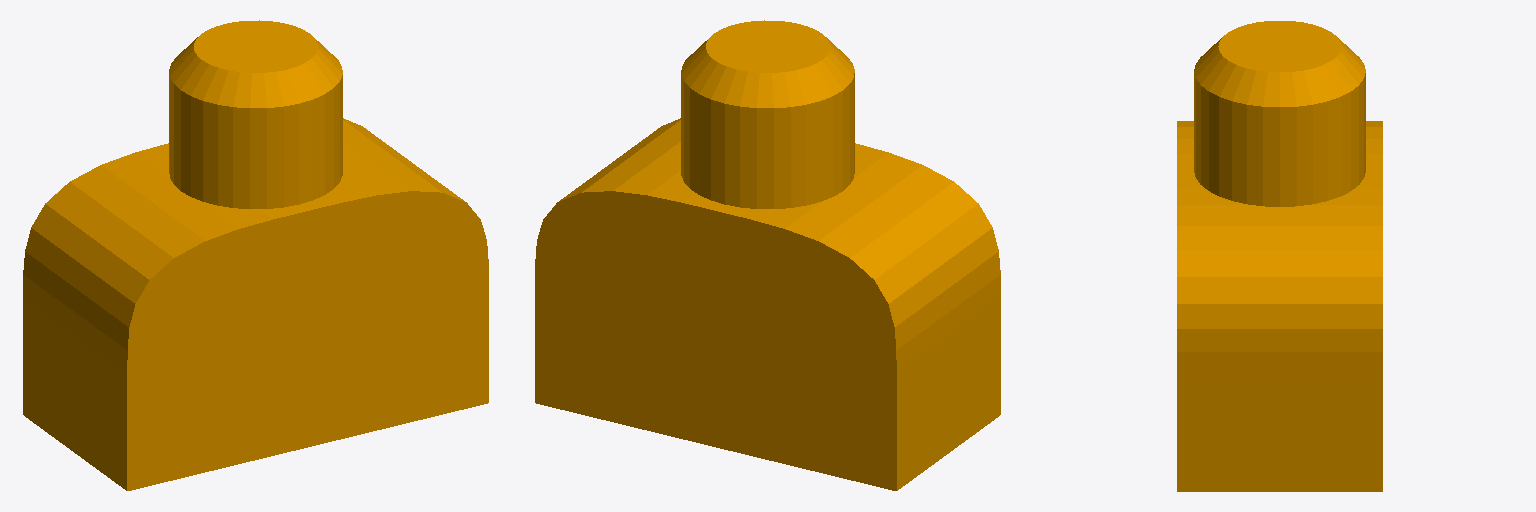
The robot description file, URDF, robot "1x3_curve_soft.urdf":
<?xml version="1.0" ?>
<!-- This file was generated from obj_file/1x3_curve_soft.stl. -->
<robot name="1x3_curve_soft.urdf">


  <link name="1x3_curve_soft.stl">
    <visual>
      <origin xyz="0 0 0"/>
      <geometry>
        <mesh filename="../origin_obj/1x3_curve_soft/1x3_curve_soft.stl" scale="0.01 0.01 0.01"/>
      </geometry>
    </visual>
    <collision>
      <origin xyz="0 0 0"/>
      <geometry>
        <mesh filename="../origin_obj/1x3_curve_soft/1x3_curve_soft.stl" scale="0.01 0.01 0.01"/>
      </geometry>
      <sdf resolution="256" scale="0.01 0.01 0.01"/>
    </collision>
    <inertial>
      <density value="567.0"/>
    </inertial>
  </link>

</robot>

--- Facts derived from the render (not from the file) ---
3 views of the same robot in one strip: view 1: azimuth 30°, elevation 25°; view 2: azimuth 150°, elevation 25°; view 3: azimuth 270°, elevation 25° (orthographic).
Model 1x3_curve_soft.urdf with 1 links and 0 joints (none), rooted at 1x3_curve_soft.stl, posed all joints at 0.
Visible links, largest first — view 1: 1x3_curve_soft.stl; view 2: 1x3_curve_soft.stl; view 3: 1x3_curve_soft.stl.
Boxes of the visible links, box(x1,y1,x2,y2) form: 1x3_curve_soft.stl: box(23, 20, 488, 490); 1x3_curve_soft.stl: box(535, 20, 1000, 490); 1x3_curve_soft.stl: box(1177, 21, 1382, 491).
Size in the robot's own frame: 0.06 by 0.03 by 0.0575 metres.
Meshes: 1 distinct files referenced, 1 mesh visuals loaded (1 binary STL).